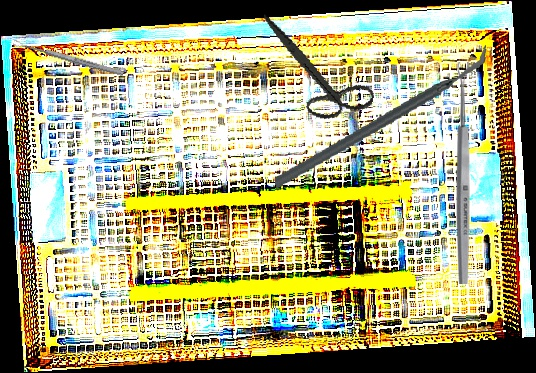Chopper: (261, 44, 501, 190)
Iris Scissors: (243, 14, 387, 130)
Surgical Spoon: (12, 38, 125, 78), (456, 62, 471, 284)
